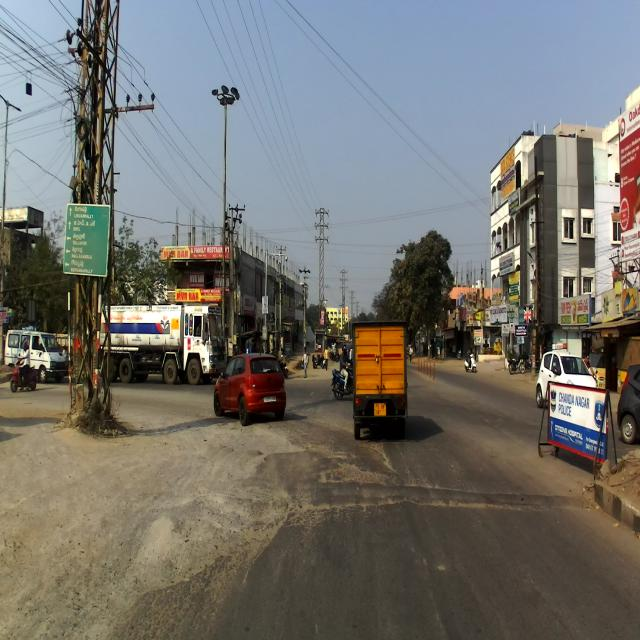barrier ahead at: (536, 374, 616, 476)
car ahead at: (350, 316, 408, 438), (210, 348, 294, 432)
electric pole ahead at: (61, 0, 122, 437)
